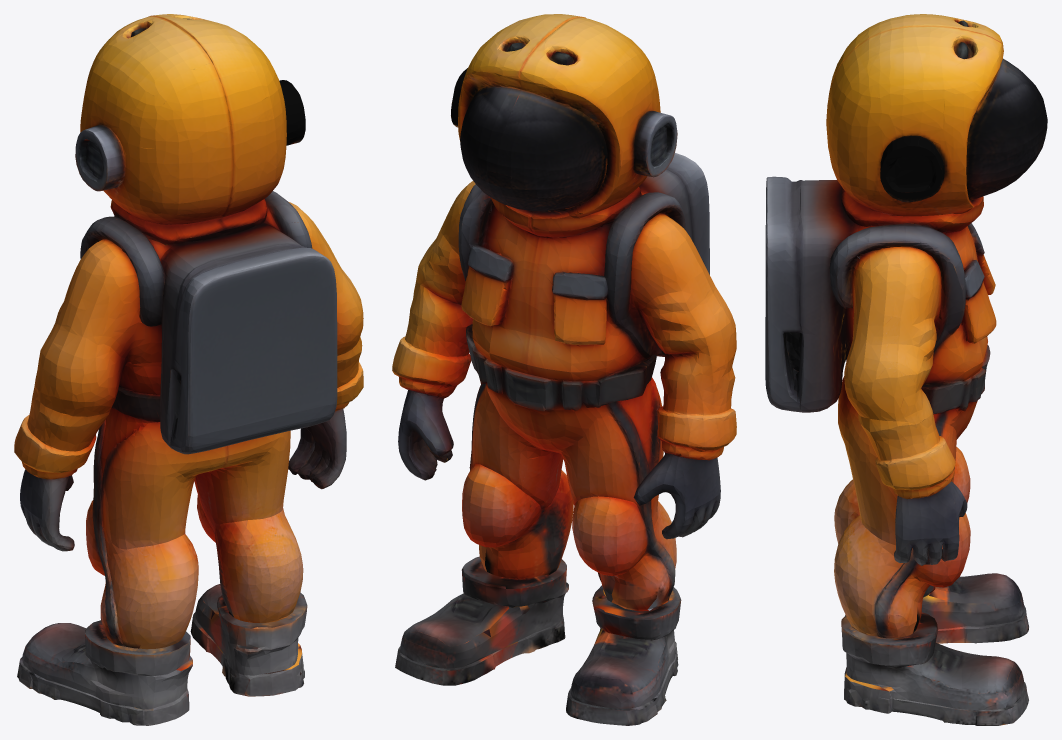
File: LowQuality.glb
The picture shows the model from 3 angles, left to right: view 1: azimuth 30°, elevation 25°; view 2: azimuth 150°, elevation 25°; view 3: azimuth 270°, elevation 25°; orthographic projection.
Parts seen in each view (by area): view 1: world; view 2: world; view 3: world.
Boxes of the visible parts, x1,y1,x2,y2 form: world: (14,14,363,725); world: (392,14,736,725); world: (765,14,1047,725).
Size of the model in its own units: 0.5426 by 1 by 0.4004.
Materials: 1 (1 with a texture image).
